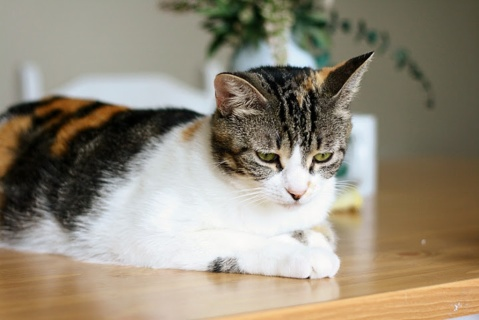Cat: (0, 52, 377, 282)
